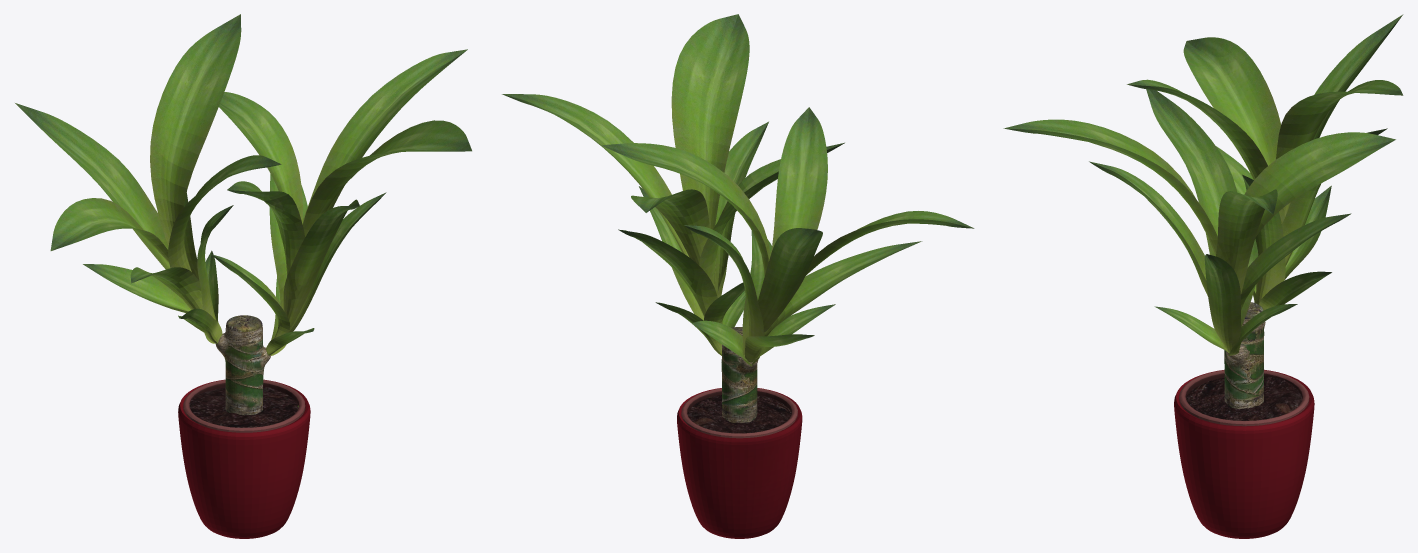
File: IndoorTree.glb
3 views of the same model, side by side, from view 1: azimuth 30°, elevation 25°; view 2: azimuth 150°, elevation 25°; view 3: azimuth 270°, elevation 25° (orthographic). The views are drawn at different scales.
Visible parts, largest first — view 1: Shape_IndexedFaceSet.002, Shape_IndexedFaceSet.003, Shape_IndexedFaceSet, Shape_IndexedFaceSet.001; view 2: Shape_IndexedFaceSet.002, Shape_IndexedFaceSet.003, Shape_IndexedFaceSet, Shape_IndexedFaceSet.001; view 3: Shape_IndexedFaceSet.002, Shape_IndexedFaceSet.003, Shape_IndexedFaceSet, Shape_IndexedFaceSet.001.
Part boxes in pixels (bbox=[...]): Shape_IndexedFaceSet.002: bbox=[15, 14, 471, 355]; Shape_IndexedFaceSet.003: bbox=[178, 379, 310, 538]; Shape_IndexedFaceSet: bbox=[183, 315, 305, 432]; Shape_IndexedFaceSet.001: bbox=[189, 386, 298, 427]; Shape_IndexedFaceSet.002: bbox=[502, 14, 974, 366]; Shape_IndexedFaceSet.003: bbox=[677, 388, 802, 538]; Shape_IndexedFaceSet: bbox=[681, 327, 797, 438]; Shape_IndexedFaceSet.001: bbox=[687, 395, 791, 433]; Shape_IndexedFaceSet.002: bbox=[1003, 14, 1403, 355]; Shape_IndexedFaceSet.003: bbox=[1174, 369, 1314, 538]; Shape_IndexedFaceSet: bbox=[1179, 302, 1309, 426]; Shape_IndexedFaceSet.001: bbox=[1186, 376, 1302, 420].
Size of the model in its own units: 6.82 by 6.22 by 4.86.
Materials: 4 (4 with a texture image).
